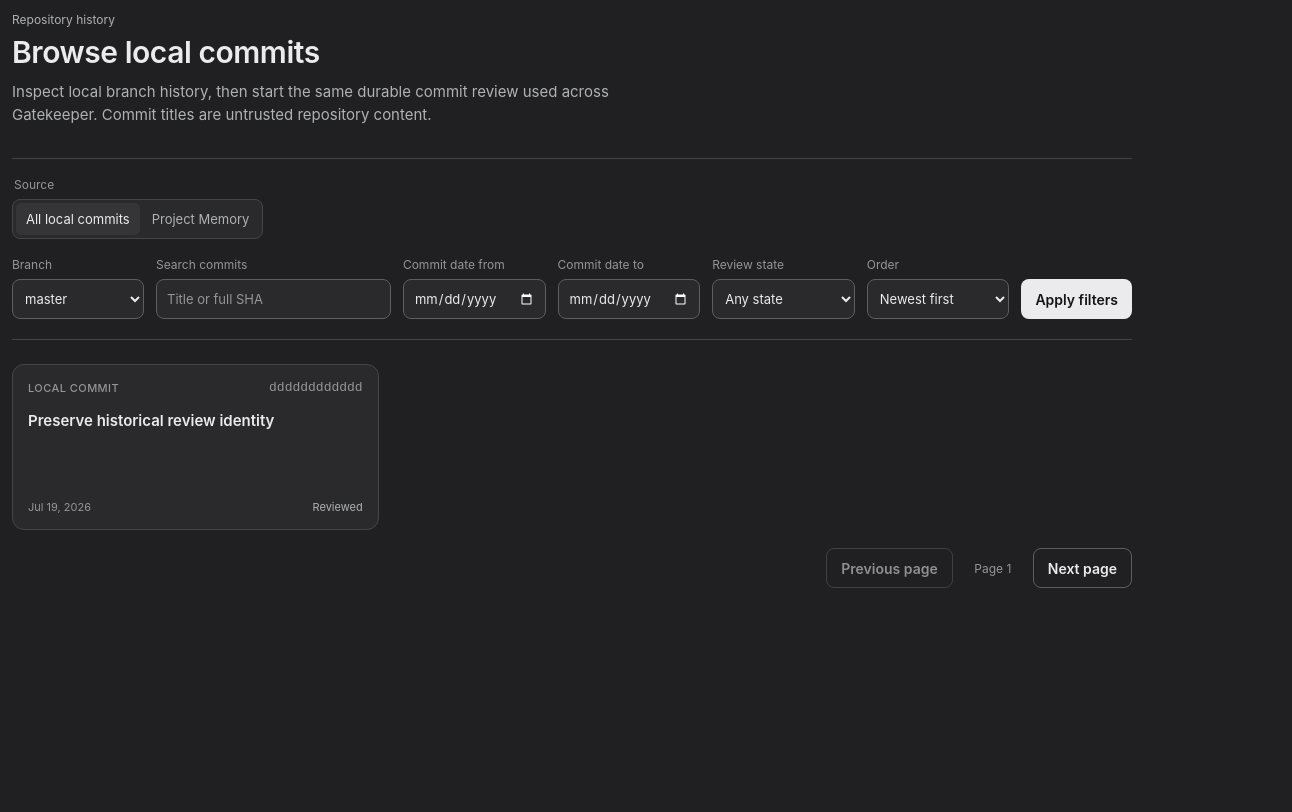
Test case: Commit Explorer › keeps review-start failures bounded without disabling the explorer
Click the button with aria-label "Review Preserve historical review identity" at (74, 388), box 12,364 -> 379,530
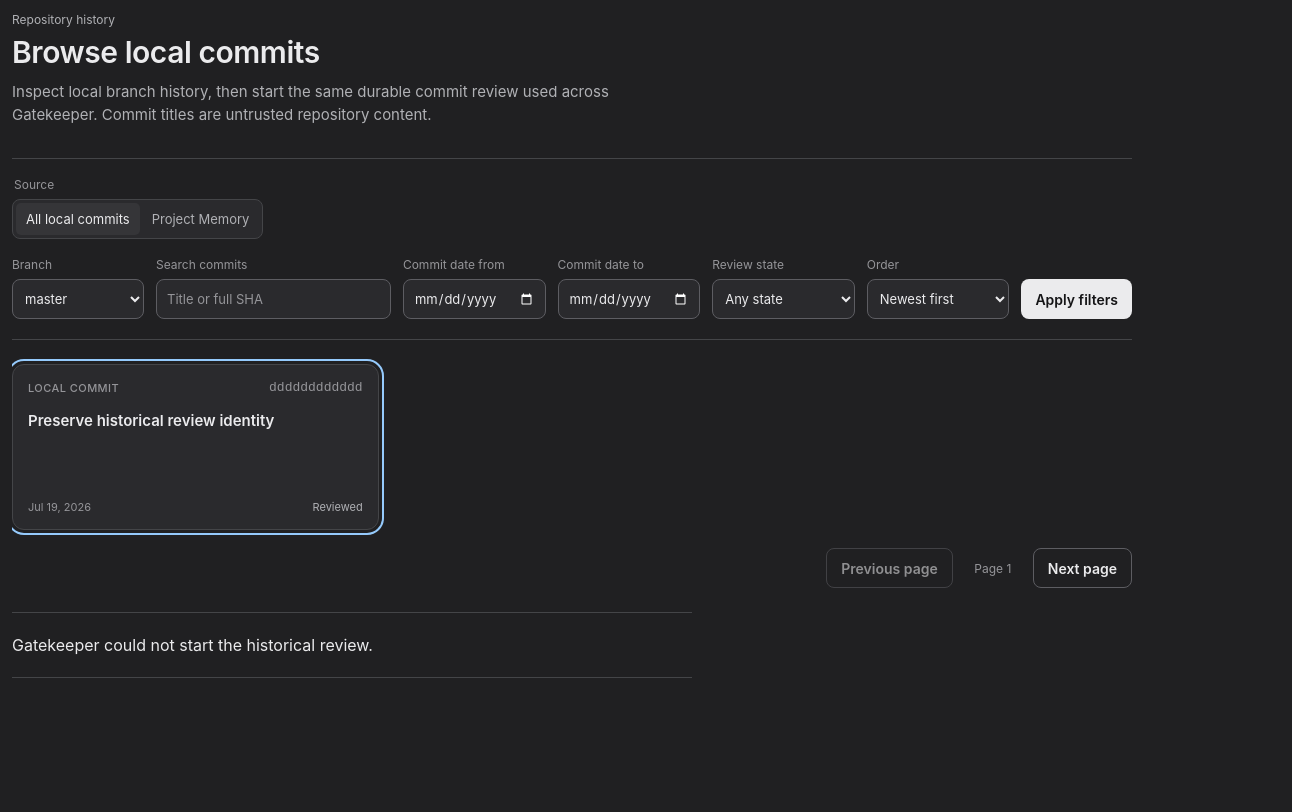
Expected: the message does not show "private commit detail", 12,612 -> 692,678
Expected: the message reads "Gatekeeper could not start the historical review.", 12,635 -> 373,655
